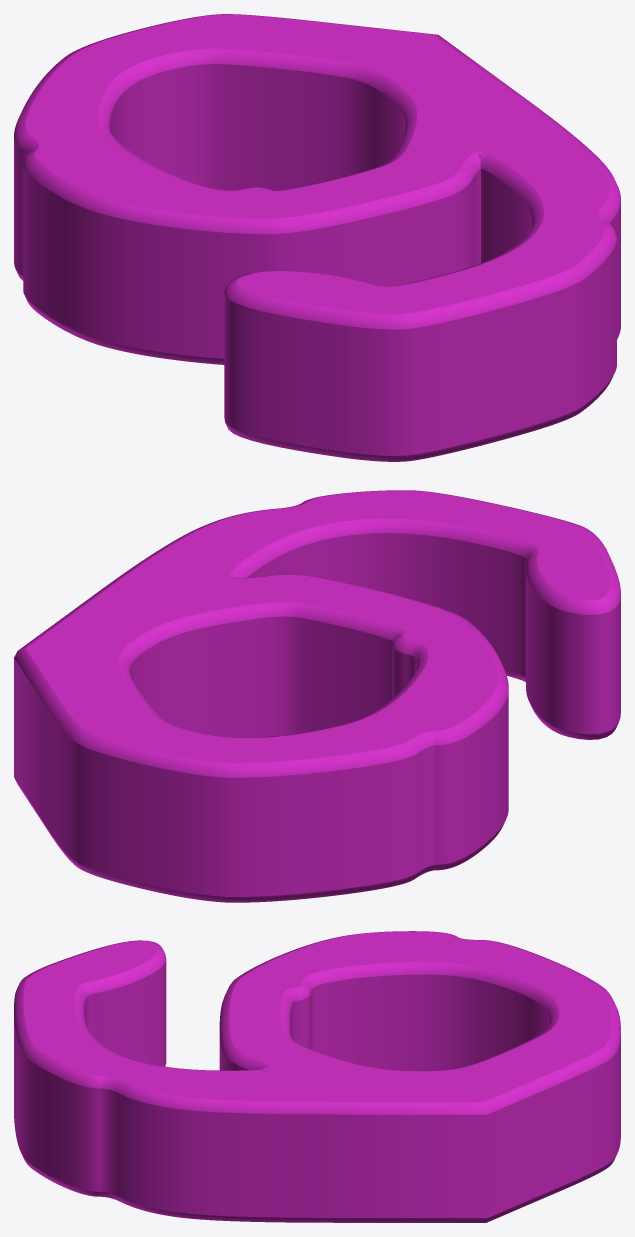
File: Blocky_Number_6.fbx
3 renders of one model, top to bottom at view 1: azimuth 30°, elevation 25°; view 2: azimuth 150°, elevation 25°; view 3: azimuth 270°, elevation 25°, orthographic. The views are drawn at different scales.
Visible parts, largest first — view 1: BlockyNumber_6; view 2: BlockyNumber_6; view 3: BlockyNumber_6.
Boxes of the visible parts, left/top/right/bottom form: BlockyNumber_6: left=14, top=14, right=620, bottom=461; BlockyNumber_6: left=14, top=490, right=620, bottom=902; BlockyNumber_6: left=14, top=931, right=620, bottom=1222.
Bounding box in the file's own units: 0.444 × 0.14 × 0.6383.
